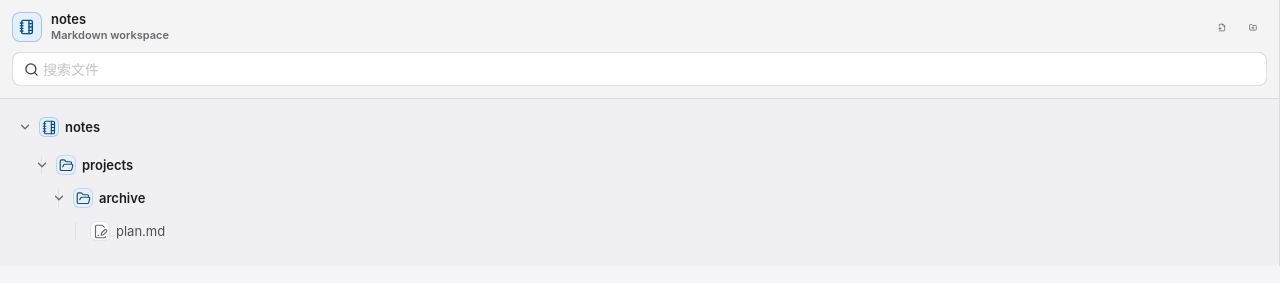
Test case: WorkspaceSidebar › clicking the workspace root collapses locally without persisting a folder path
Click the button with test id "workspace-root" at point(83, 127), box [8,110,1271,144]
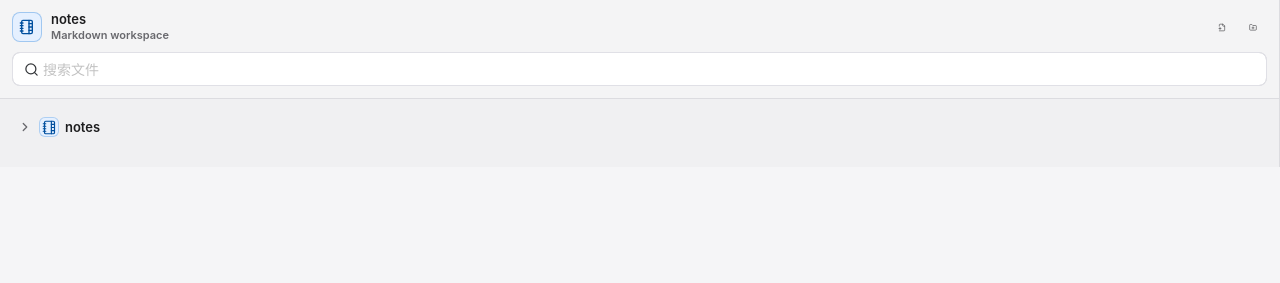
Expected: the button with test id "workspace-root" is collapsed
Click the button with test id "workspace-root" at point(83, 127), box [8,110,1271,144]
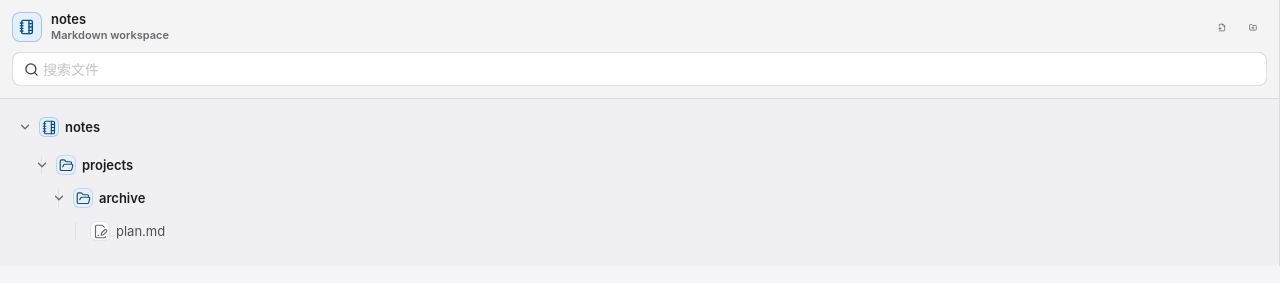
Expected: the button with test id "workspace-root" is expanded, [8,110,1271,144]
Expected: the button with test id "folder-projects" is shown, [8,149,1271,181]
